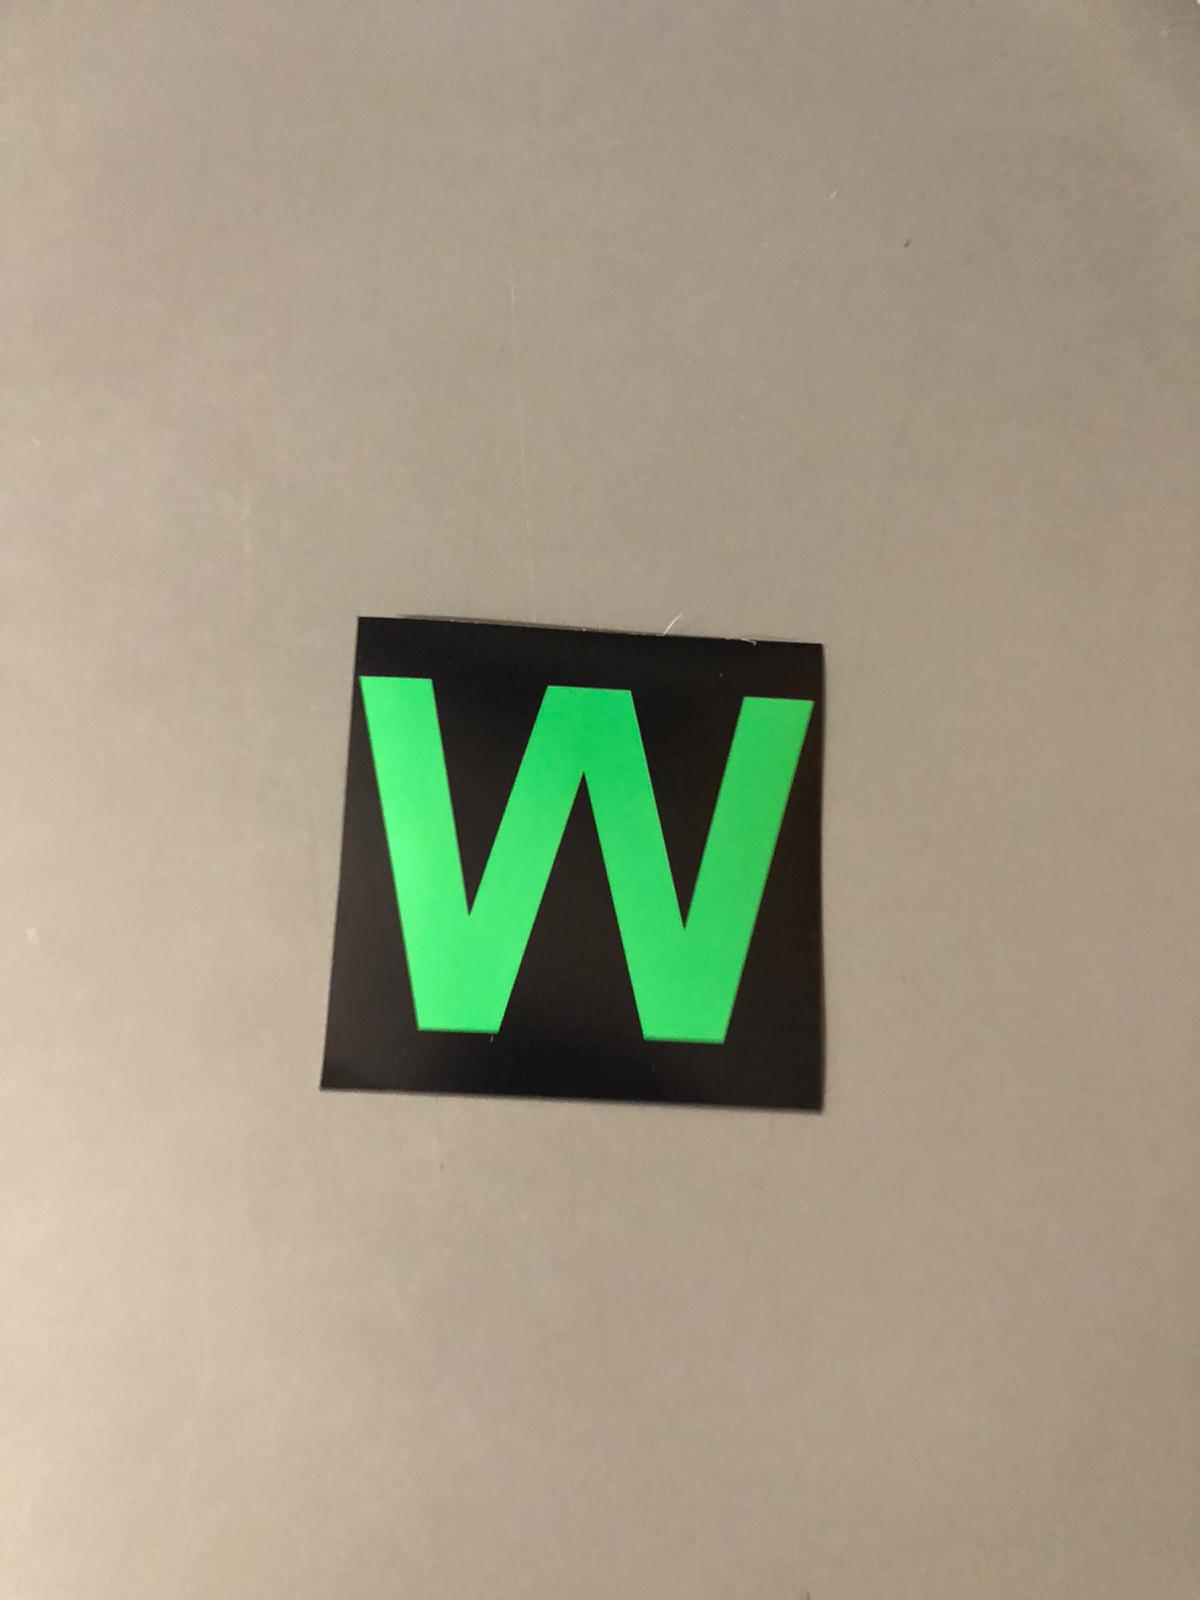W: (352, 643, 827, 1099)
